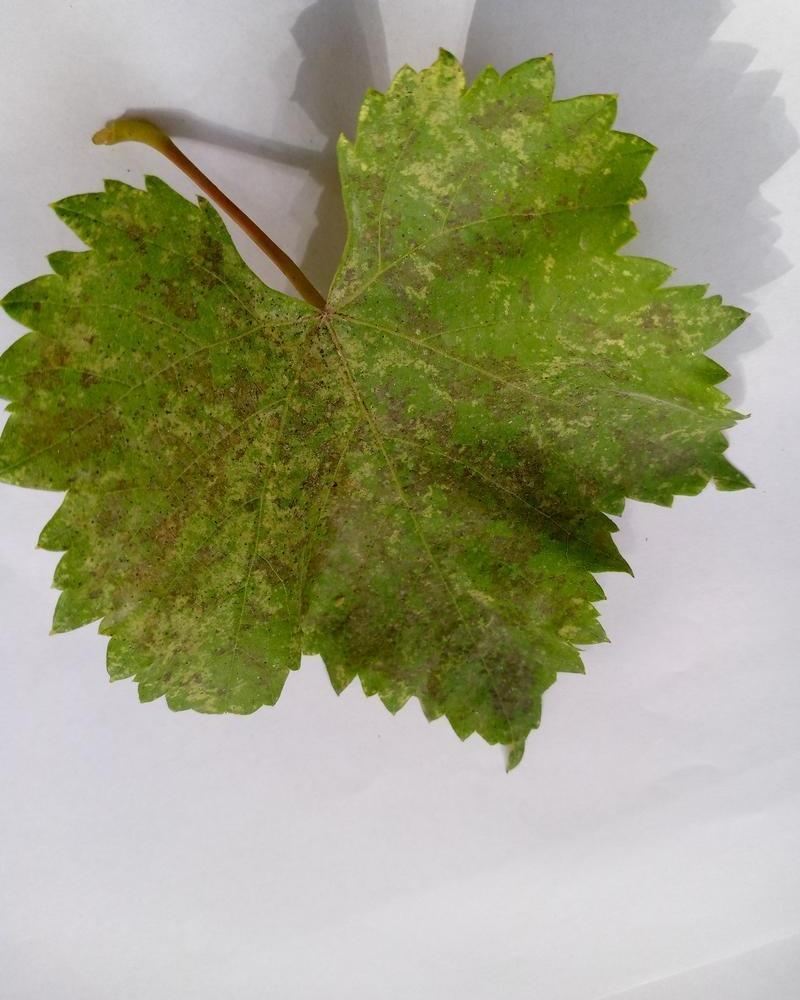Powdery-Mildew: (474, 332, 628, 523), (77, 498, 230, 658), (242, 498, 399, 633), (141, 357, 265, 526), (279, 324, 435, 457), (439, 575, 570, 722), (348, 73, 467, 199), (600, 296, 715, 403), (16, 295, 114, 407), (476, 101, 539, 164), (548, 122, 611, 185), (541, 228, 604, 291)
